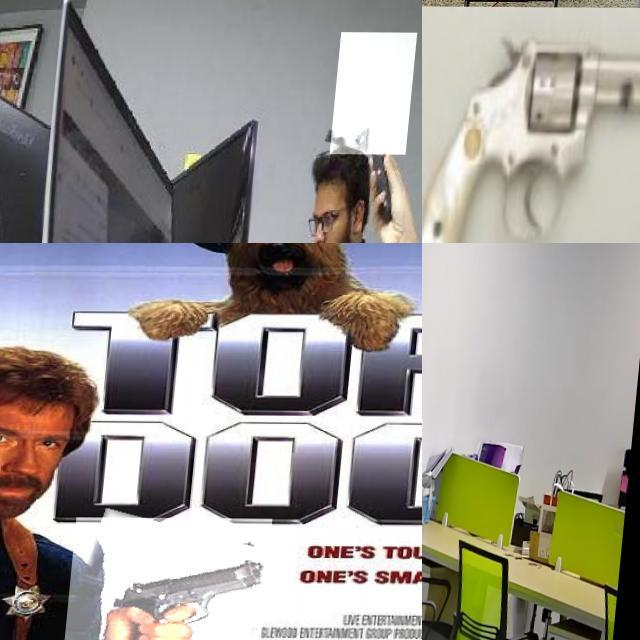-: (335, 32, 420, 154)
gun-knife-thesis - v11 Yolov5 augmented: (422, 28, 640, 243), (71, 517, 280, 640), (599, 0, 640, 75), (422, 0, 456, 61), (422, 418, 452, 487), (422, 137, 447, 201)
